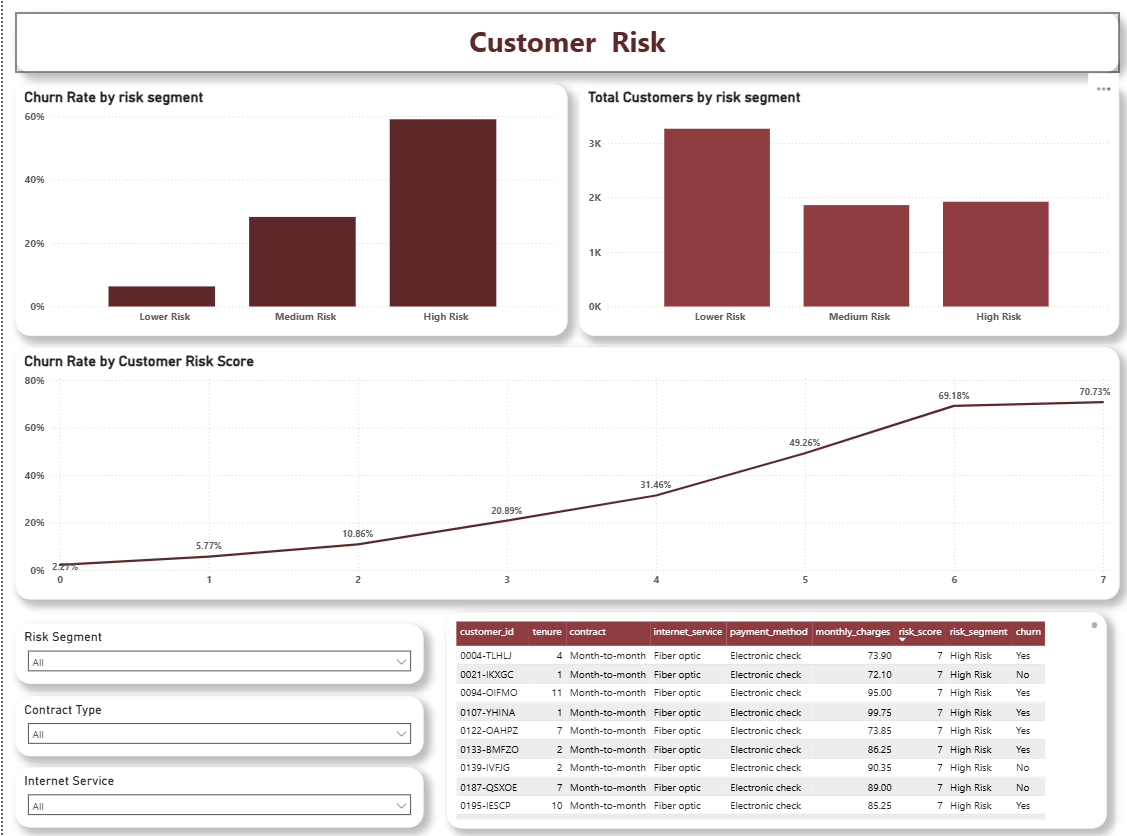

The dashboard page shown, as its layout file describes it:
{"tool":"powerbi","page":{"name":"Customer Risk","canvas":[1500,1115],"ordinal":2},"visuals":[{"type":"clusteredColumnChart","title":"Churn Rate by risk segment","fields":{"Y":["Measures (2).Churn Rate"],"Category":["vw_telecom_churn_bi.risk_segment"]},"box":[16,112,736,336],"z":0},{"type":"clusteredColumnChart","title":"Total Customers by risk segment","fields":{"Y":["Measures (2).Total Customers"],"Category":["vw_telecom_churn_bi.risk_segment"]},"box":[768,112,720,336],"z":1000},{"type":"lineChart","title":"Churn Rate by Customer Risk Score","fields":{"Category":["vw_telecom_churn_bi.risk_score"],"Y":["Measures (2).Churn Rate"]},"box":[16,464,1472,336],"z":2000},{"type":"tableEx","fields":{"Values":["vw_telecom_churn_bi.customer_id","vw_telecom_churn_bi.tenure","vw_telecom_churn_bi.contract","vw_telecom_churn_bi.internet_service","vw_telecom_churn_bi.payment_method","vw_telecom_churn_bi.monthly_charges","vw_telecom_churn_bi.risk_score","vw_telecom_churn_bi.risk_segment","vw_telecom_churn_bi.churn"]},"box":[592,816,880,288],"z":3000},{"type":"slicer","title":"Risk Segment","fields":{"Values":["vw_telecom_churn_bi.risk_segment"]},"box":[16,832,544,80],"z":4000},{"type":"slicer","title":"Contract Type","fields":{"Values":["vw_telecom_churn_bi.contract"]},"box":[16,928,544,80],"z":5000},{"type":"slicer","title":"Internet Service","fields":{"Values":["vw_telecom_churn_bi.internet_service"]},"box":[16,1024,544,80],"z":6000},{"type":"textbox","box":[16,16,1472,80],"z":7000}]}

Visuals, with their boxes in screenshot pixels (x1, y1, x2, y2), scaled from the page's 1500x1115 canvas onto the 1127x836 screenshot:
"Churn Rate by risk segment" clusteredColumnChart: [x1=12, y1=84, x2=565, y2=336]
"Total Customers by risk segment" clusteredColumnChart: [x1=577, y1=84, x2=1118, y2=336]
"Churn Rate by Customer Risk Score" lineChart: [x1=12, y1=348, x2=1118, y2=600]
tableEx - vw_telecom_churn_bi.customer_id x vw_telecom_churn_bi.tenure: [x1=445, y1=612, x2=1106, y2=828]
"Risk Segment" slicer: [x1=12, y1=624, x2=421, y2=684]
"Contract Type" slicer: [x1=12, y1=696, x2=421, y2=756]
"Internet Service" slicer: [x1=12, y1=768, x2=421, y2=828]
textbox: [x1=12, y1=12, x2=1118, y2=72]
